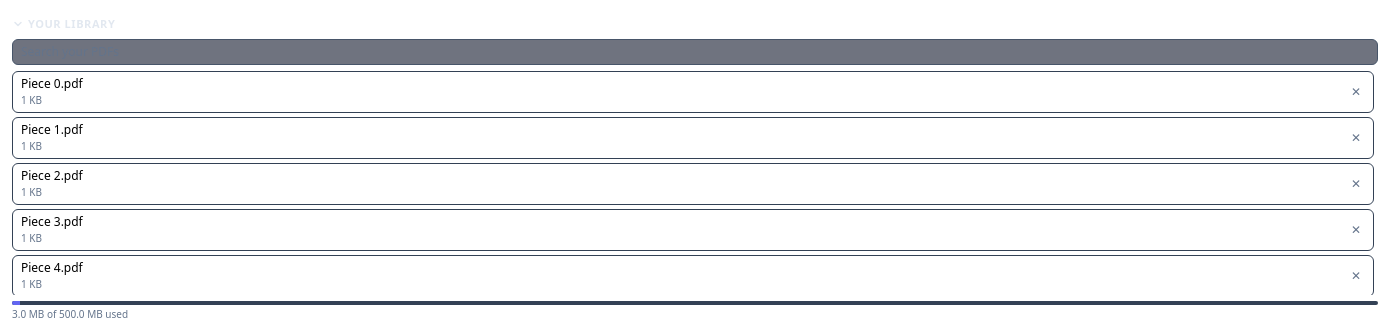
it: PdfLibrarySection › with many PDFs › filters by name, ignoring case, and says when nothing matches
This screenshot has width=1390, height=335.
Type "  PIECE 3 " into the search field labelled "Search your PDFs" at {"x": 695, "y": 52}, box x1=12 y1=38 x2=1378 y2=64
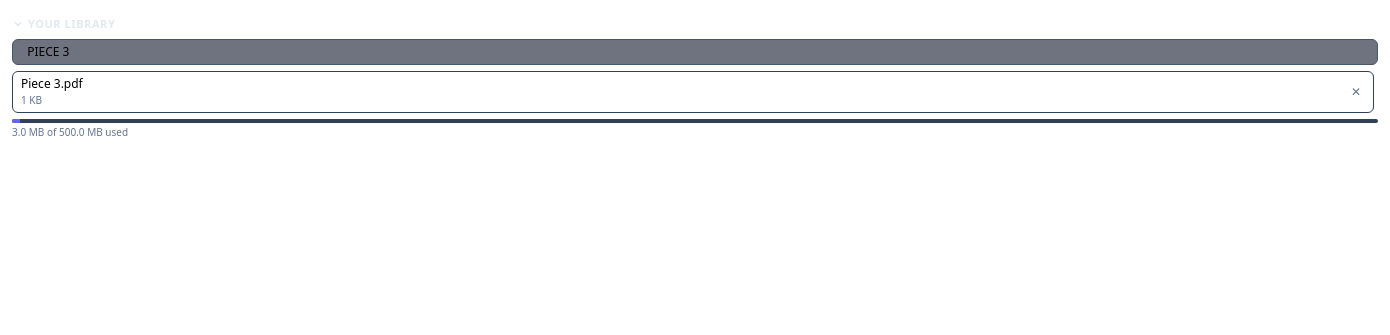
Check: the text "Piece 3.pdf" is shown, box x1=21 y1=74 x2=83 y2=92
Check: the number of list items is 1, box x1=12 y1=70 x2=1374 y2=112
Replace the text in the search field named "Search your PDFs" with "zzz" at {"x": 695, "y": 52}, box x1=12 y1=38 x2=1378 y2=64
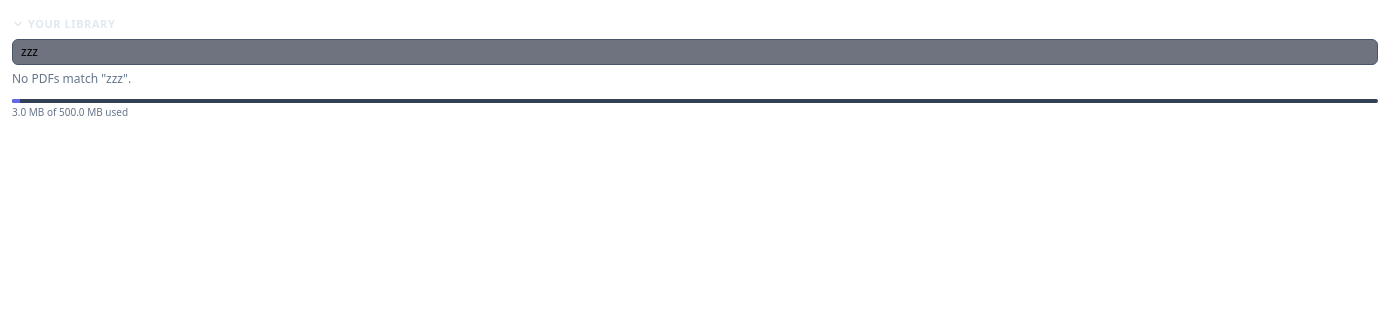
Check: no list items are shown
Check: the text "No PDFs match \"zzz\"." is shown, box x1=12 y1=70 x2=131 y2=86
